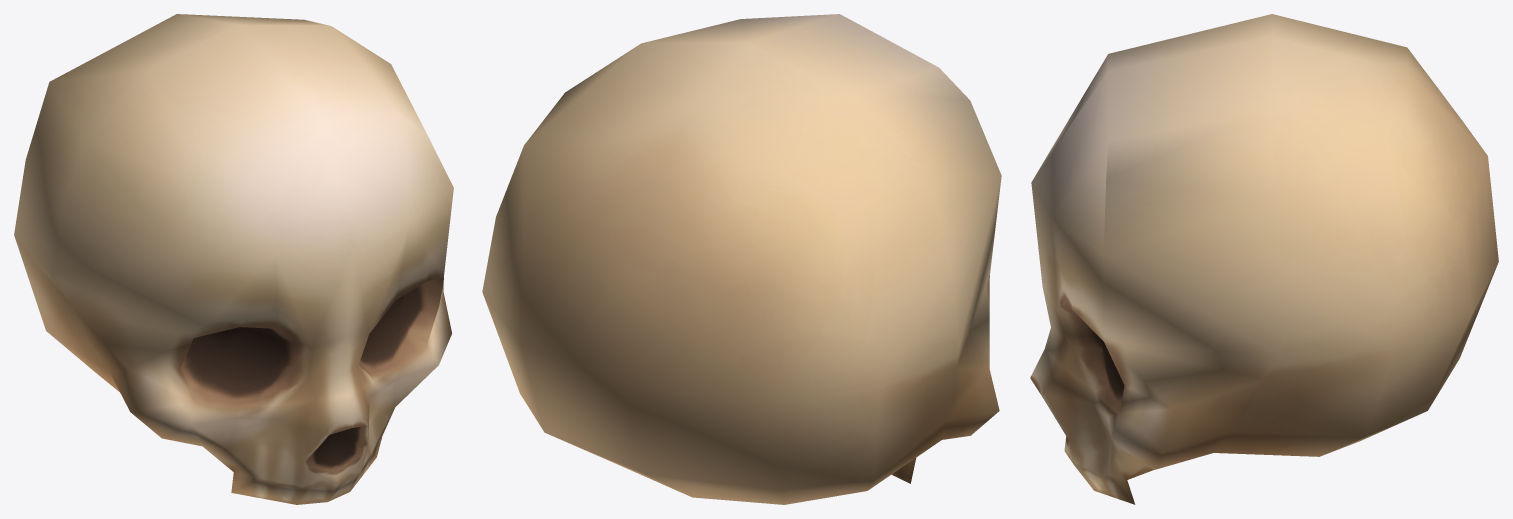
Rendered from skull.gltf.
3 views of the same model, side by side, from view 1: azimuth 30°, elevation 25°; view 2: azimuth 150°, elevation 25°; view 3: azimuth 270°, elevation 25° (orthographic). The views are drawn at different scales.
Parts seen in each view (by area): view 1: skull; view 2: skull; view 3: skull.
Part boxes in pixels (bbox=[...]): skull: bbox=[14, 14, 453, 504]; skull: bbox=[482, 14, 1001, 504]; skull: bbox=[1030, 14, 1498, 504].
Bounding box in the file's own units: 0.8943 × 0.966 × 0.9318.
1 material, 1 textured.
